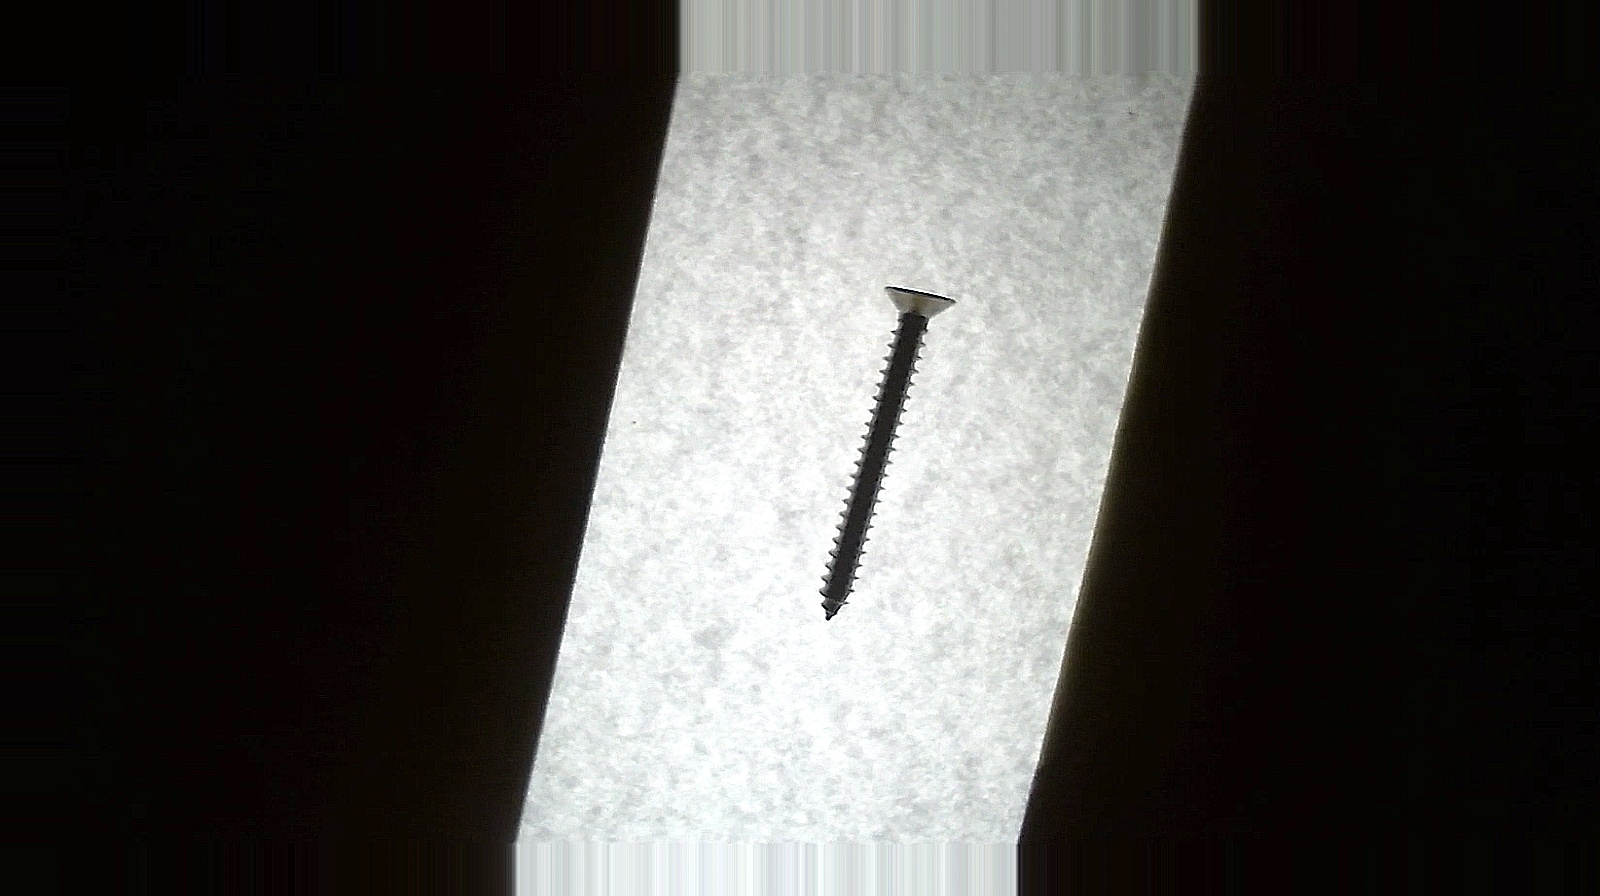S002: (802, 278, 958, 627)
